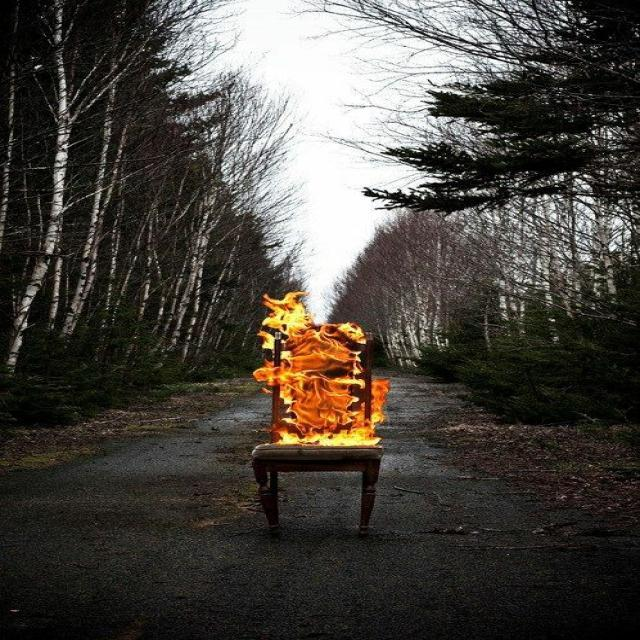Fire: (214, 290, 420, 447)
